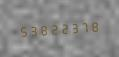eight: (37, 21, 46, 37), (87, 18, 96, 34)
five: (17, 22, 26, 39)
seven: (77, 18, 86, 35)
three: (27, 22, 36, 38), (67, 19, 76, 35)
two: (47, 20, 56, 37), (57, 20, 66, 36)
